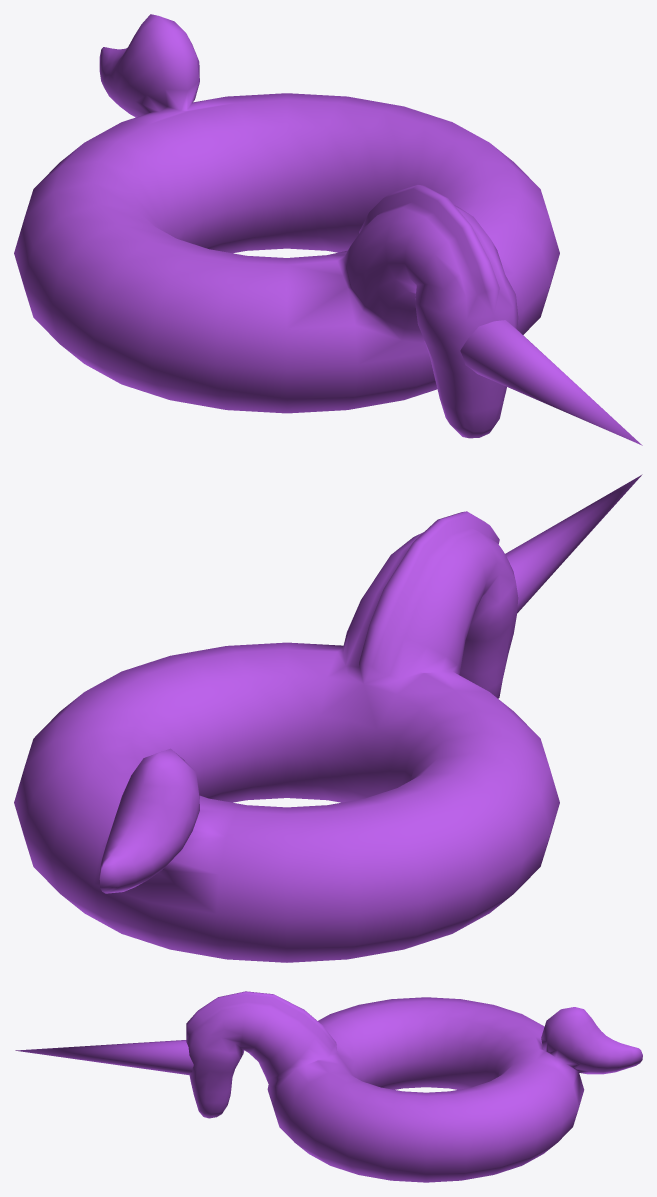
File: ChevalFeu.fbx
The picture shows the model from 3 angles, top to bottom: view 1: azimuth 30°, elevation 25°; view 2: azimuth 150°, elevation 25°; view 3: azimuth 270°, elevation 25°; orthographic projection. The views are drawn at different scales.
Parts seen in each view (by area): view 1: horse_tail_low; view 2: horse_tail_low; view 3: horse_tail_low.
Boxes of the visible parts, x1,y1,x2,y2 form: horse_tail_low: (14, 14, 642, 445); horse_tail_low: (14, 474, 642, 962); horse_tail_low: (15, 991, 642, 1182).
Bounding box in the file's own units: 159 × 77.12 × 316.
